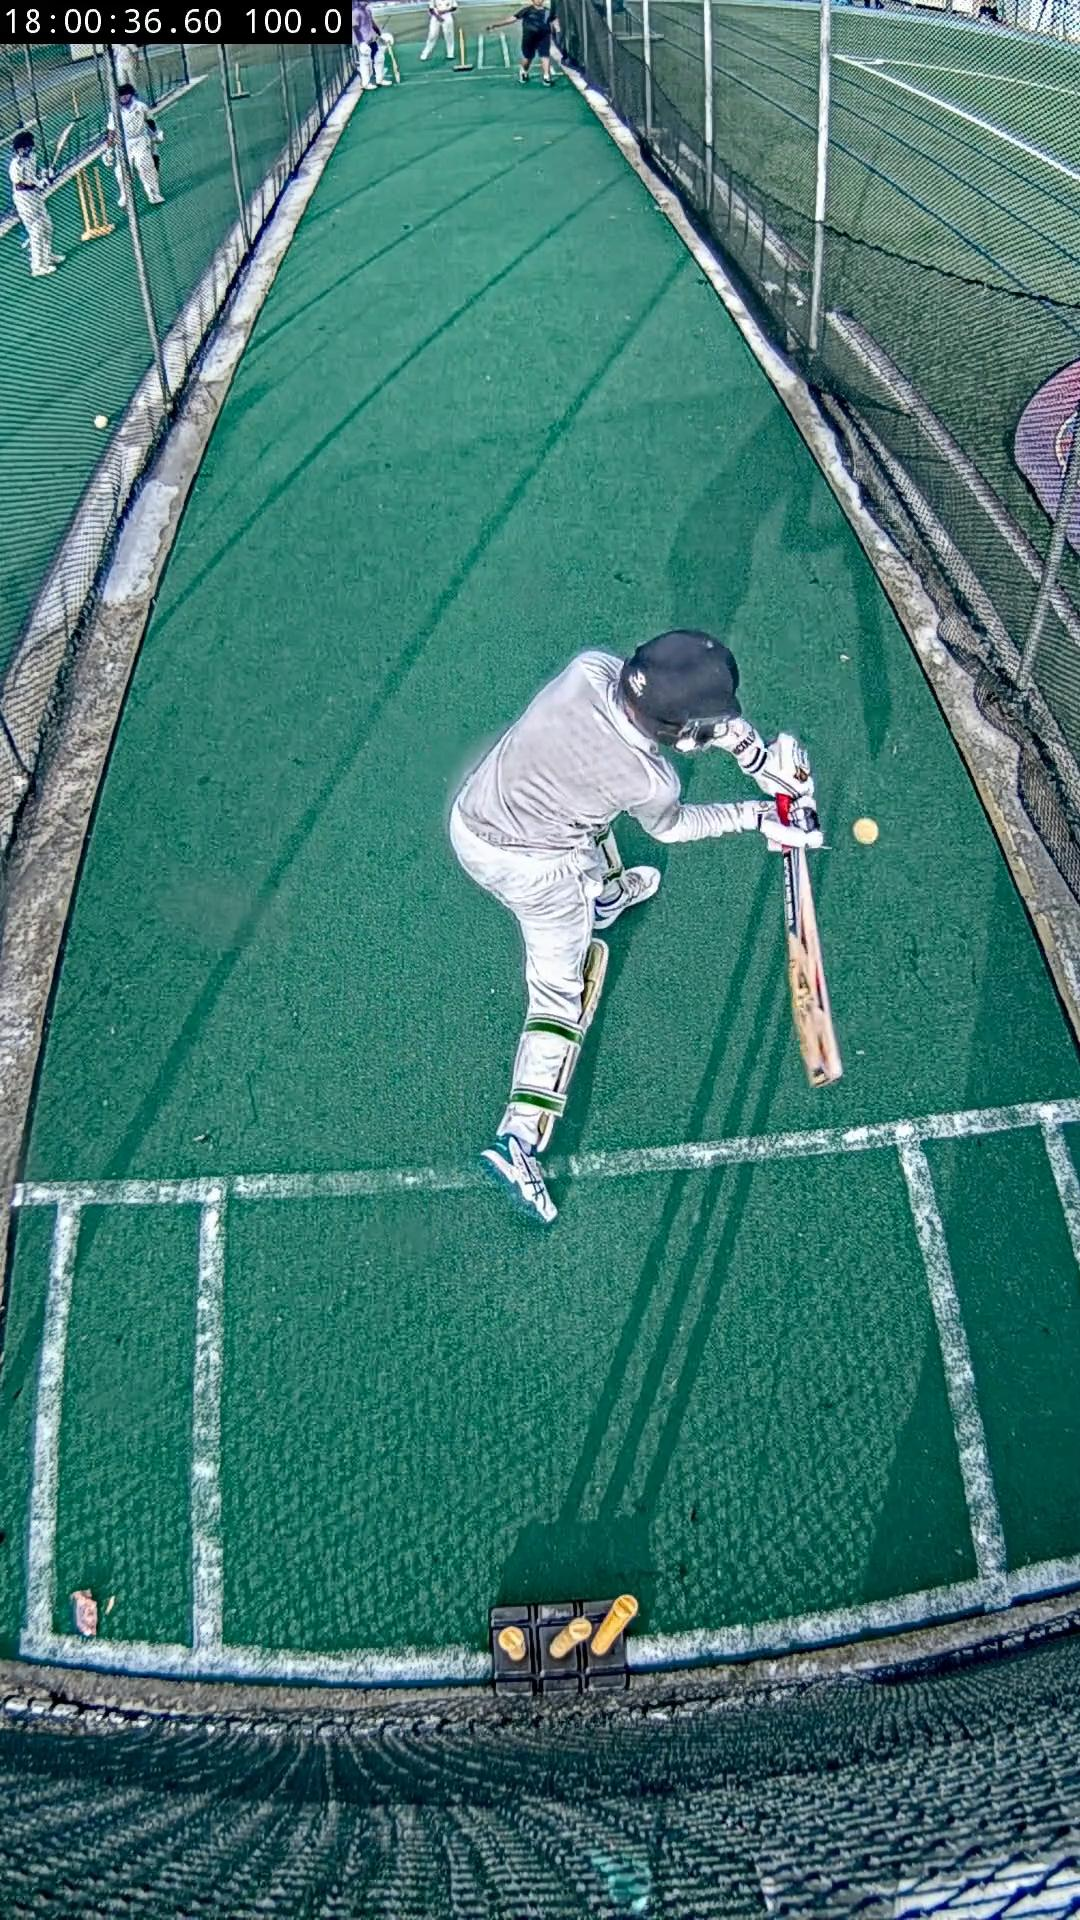ball: (852, 818, 881, 841)
bat: (783, 848, 844, 1088)
gloves: (708, 716, 825, 849)
helmet: (622, 630, 738, 742)
pads: (542, 935, 611, 1156)
stumps: (492, 1594, 637, 1695)
